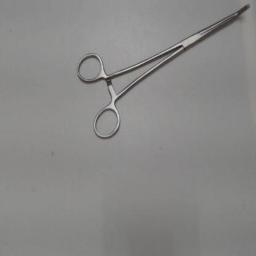Lahey Forceps: (75, 1, 253, 145)
